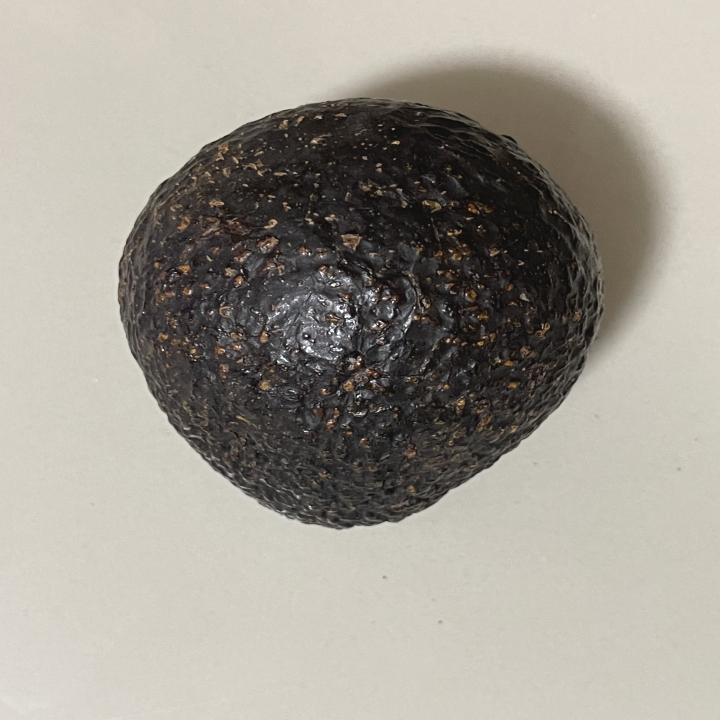Level3: (105, 90, 613, 538)
